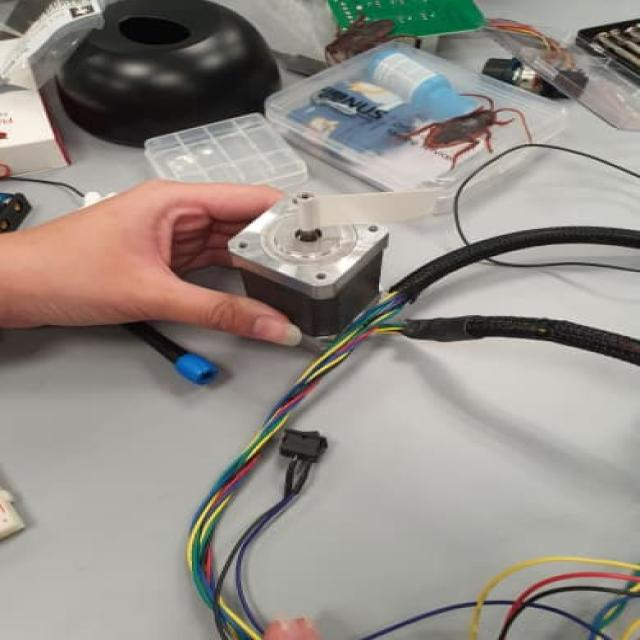Cockroach: (395, 92, 545, 172), (320, 5, 410, 61)
